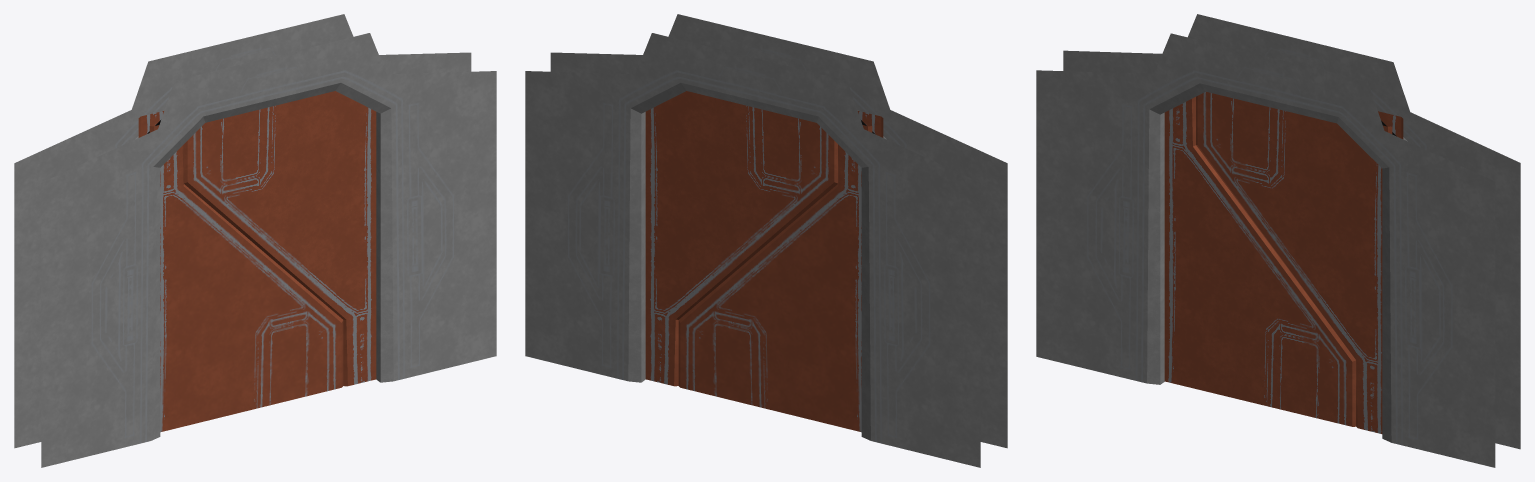
File: Door_section.FBX
The picture shows the model from 3 angles, left to right: view 1: azimuth 30°, elevation 25°; view 2: azimuth 150°, elevation 25°; view 3: azimuth 330°, elevation 25°; orthographic projection.
Parts seen in each view (by area): view 1: Group001, B_R, B_L; view 2: Group001, B_R, B_L; view 3: Group001, B_L, B_R.
Boxes of the visible parts, x1,y1,x2,y2 form: Group001: (14, 14, 496, 467); B_R: (184, 91, 376, 386); B_L: (138, 111, 343, 432); Group001: (525, 14, 1007, 467); B_R: (645, 91, 837, 386); B_L: (678, 111, 883, 432); Group001: (1036, 14, 1520, 467); B_L: (1164, 97, 1355, 426); B_R: (1196, 92, 1403, 433).
Bounding box in the file's own units: 433 × 322 × 44.04.
